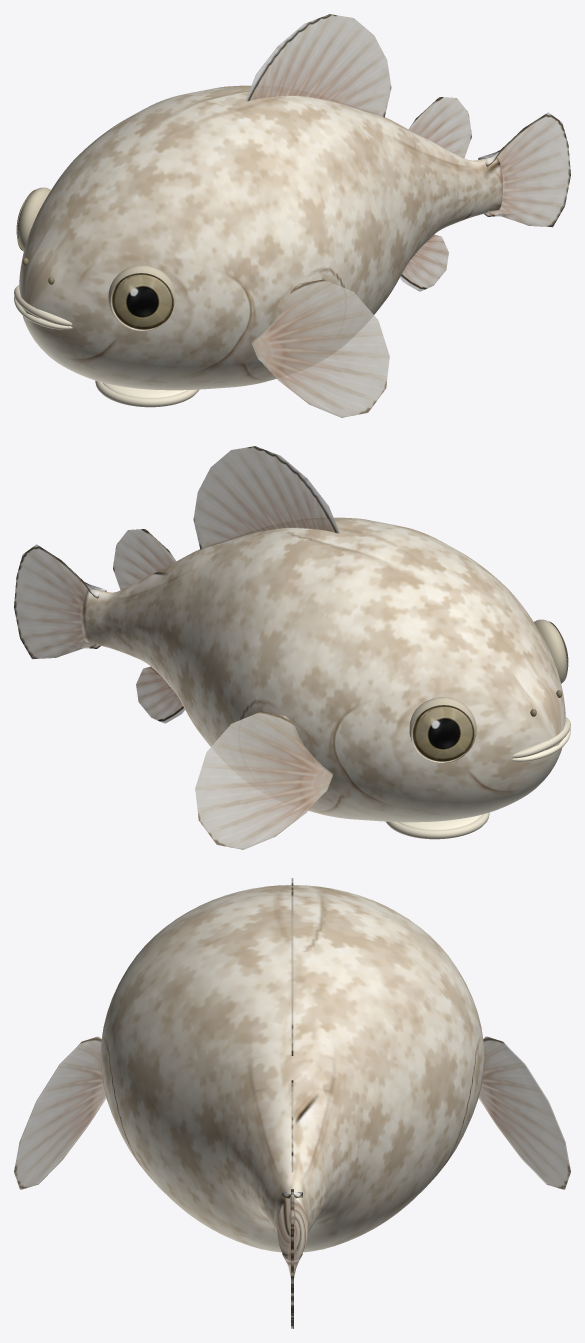
The model's file is dangouo-white.glb.
3 renders of one model, top to bottom at view 1: azimuth 30°, elevation 25°; view 2: azimuth 150°, elevation 25°; view 3: azimuth 270°, elevation 25°, orthographic. The views are drawn at different scales.
Parts seen in each view (by area): view 1: Body_continuous_skin, Pectoral_right, Dorsal_1, Caudal, Eye_iris_1, Dorsal_2, Anal, Pelvic_disc_rim, Eye_globe_-1, Eye_globe_1, Pelvic_disc_dish, Mouth_upper; view 2: Body_continuous_skin, Pectoral_left, Dorsal_1, Caudal, Eye_iris_-1, Dorsal_2, Anal, Pelvic_disc_rim, Eye_globe_1, Eye_globe_-1, Pelvic_disc_dish, Mouth_upper; view 3: Body_continuous_skin, Pectoral_left, Pectoral_right, Caudal.
Boxes of the visible parts, x1,y1,x2,y2 form: Body_continuous_skin: (19,85,502,390); Pectoral_right: (252,279,389,417); Dorsal_1: (245,14,391,117); Caudal: (478,112,570,227); Eye_iris_1: (110,273,173,330); Dorsal_2: (408,97,471,158); Anal: (400,234,448,291); Pelvic_disc_rim: (95,380,198,407); Eye_globe_-1: (18,187,50,251); Eye_globe_1: (108,265,175,331); Pelvic_disc_dish: (103,382,186,398); Mouth_upper: (14,285,72,326); Body_continuous_skin: (82,517,565,822); Pectoral_left: (195,711,332,849); Dorsal_1: (193,446,339,549); Caudal: (14,544,106,659); Eye_iris_-1: (411,705,474,762); Dorsal_2: (113,529,176,590); Anal: (136,666,184,723); Pelvic_disc_rim: (386,812,489,839); Eye_globe_1: (534,619,566,683); Eye_globe_-1: (409,697,476,763); Pelvic_disc_dish: (398,814,481,830); Mouth_upper: (512,717,570,758); Body_continuous_skin: (100,885,484,1260); Pectoral_left: (478,1036,570,1189); Pectoral_right: (14,1036,106,1189); Caudal: (282,1189,302,1328).
Size of the model in its own units: 0.0297 by 0.0171 by 0.0224.
2 materials, 2 textured.
